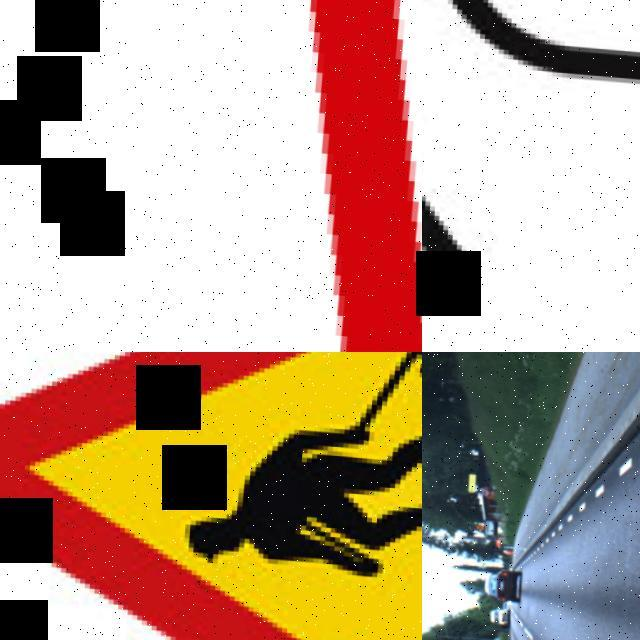127: (487, 516, 503, 534)
156: (0, 352, 422, 640)
170: (422, 0, 640, 352)
Level crossing countdown marker: (0, 0, 422, 352)
